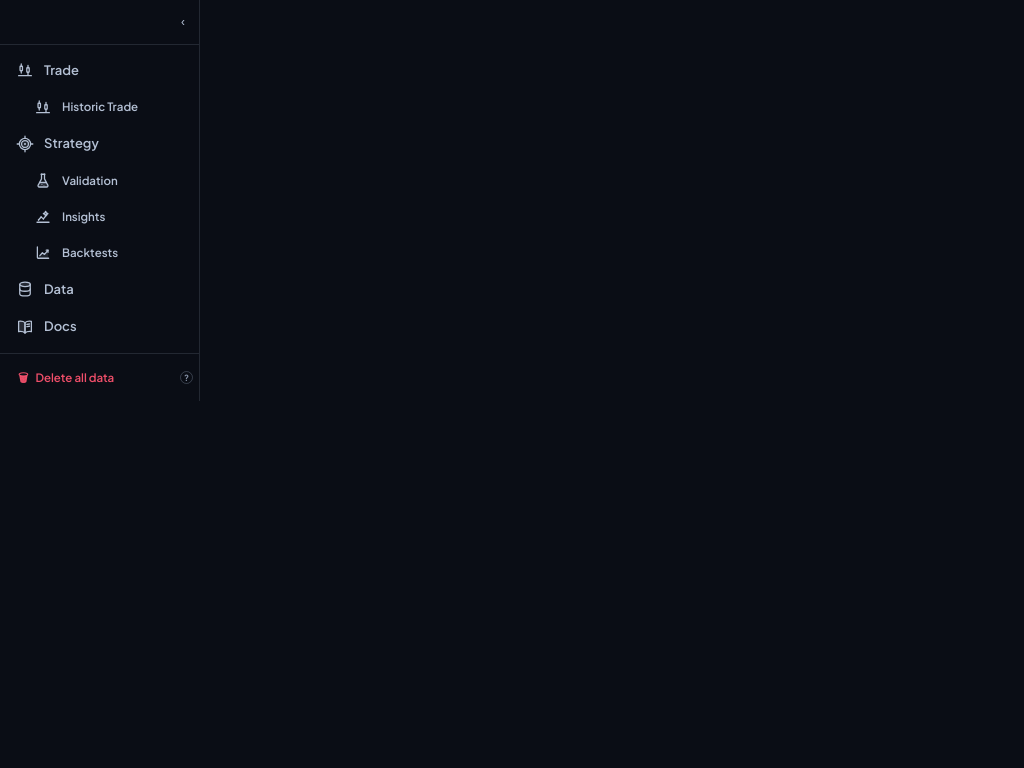
Test: <SideNav /> — Delete all data (018.1 factory reset) › surfaces a failure without reloading
This screenshot has width=1024, height=768.
Click the button with test id "side-nav-delete-all" at {"x": 88, "y": 377}, box 6,362 -> 171,393
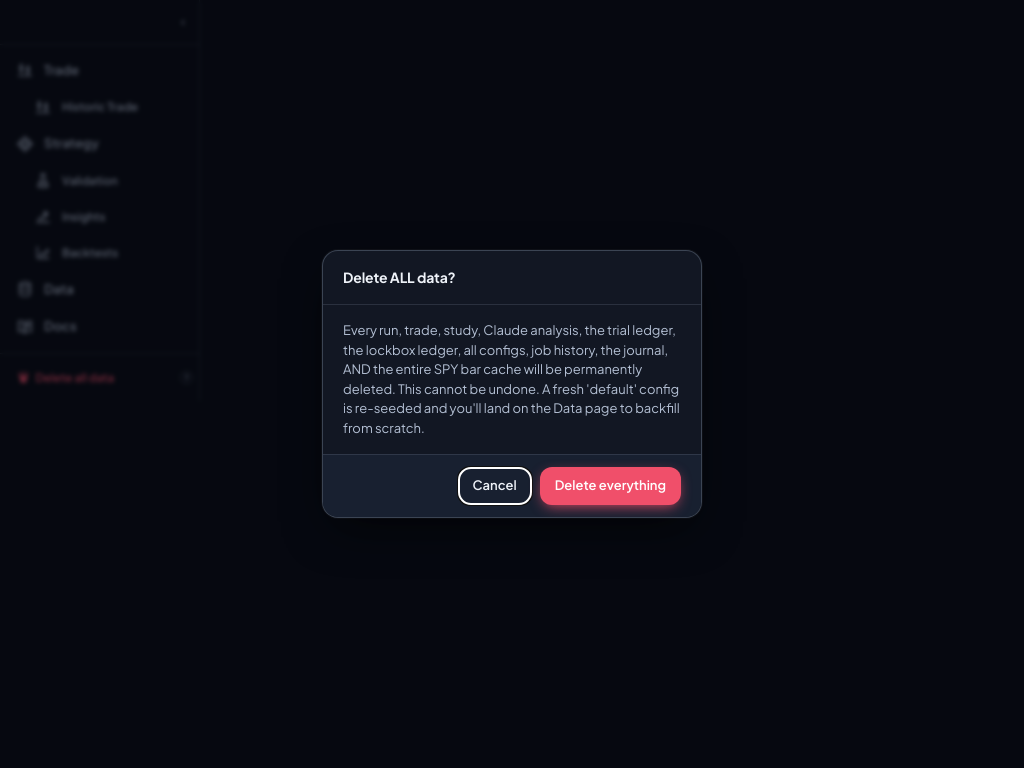
Click the button "Delete everything" at {"x": 610, "y": 486}, box 540,467 -> 681,505
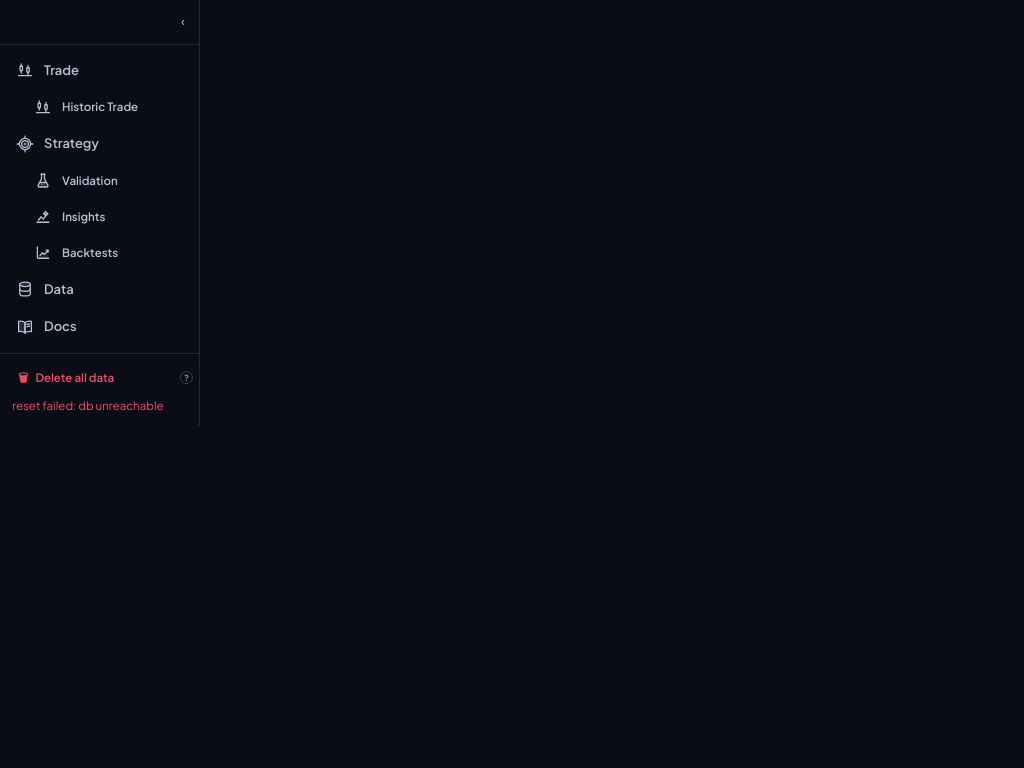
Expected: the text "reset failed: db unreachable" is shown, 12,398 -> 164,413
